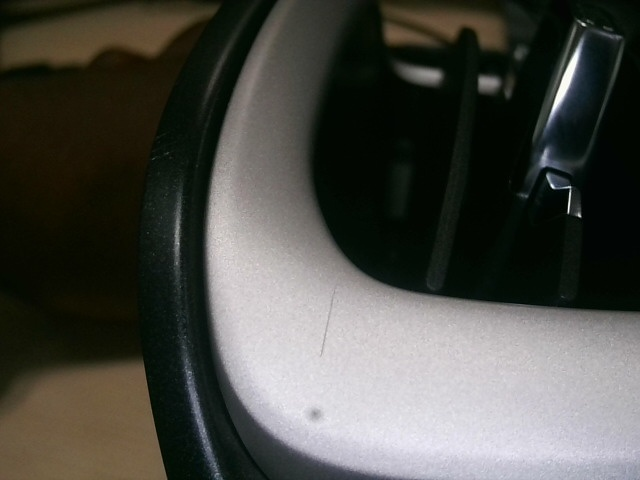NG: (313, 285, 342, 359), (150, 136, 175, 180)
